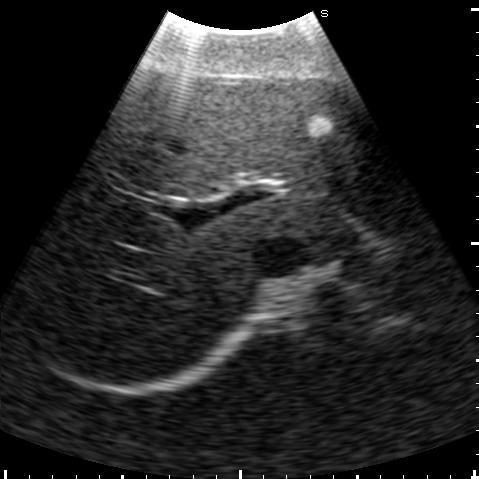IVC: (252, 238, 304, 273)
S1: (284, 201, 355, 259)
S2: (334, 190, 424, 235)
S3: (291, 76, 405, 198)
S4: (123, 72, 328, 193)
Tumor: (308, 117, 332, 137)
